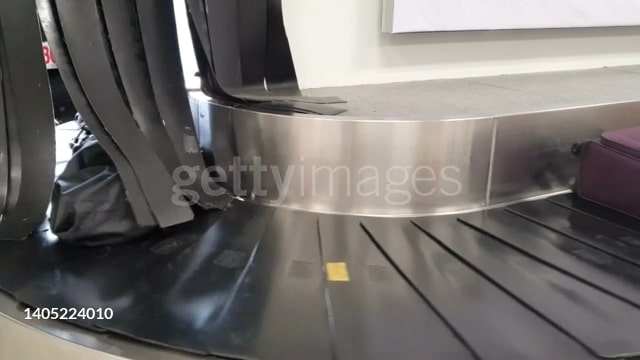baggage: (559, 116, 640, 228)
